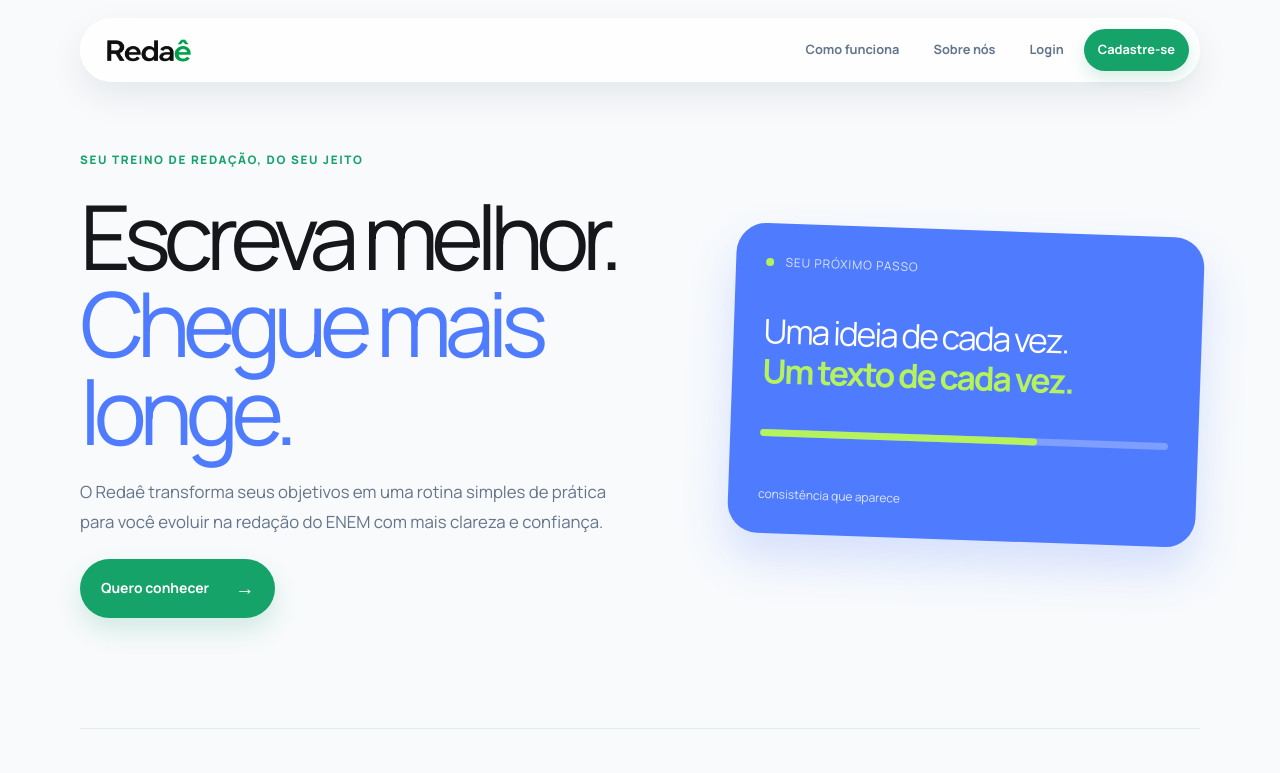
Test: landing page authentication cards › opens the login form and enters the private area after authentication
Click the button "Login" at x=1047, y=50, box [1016,29,1078,71]
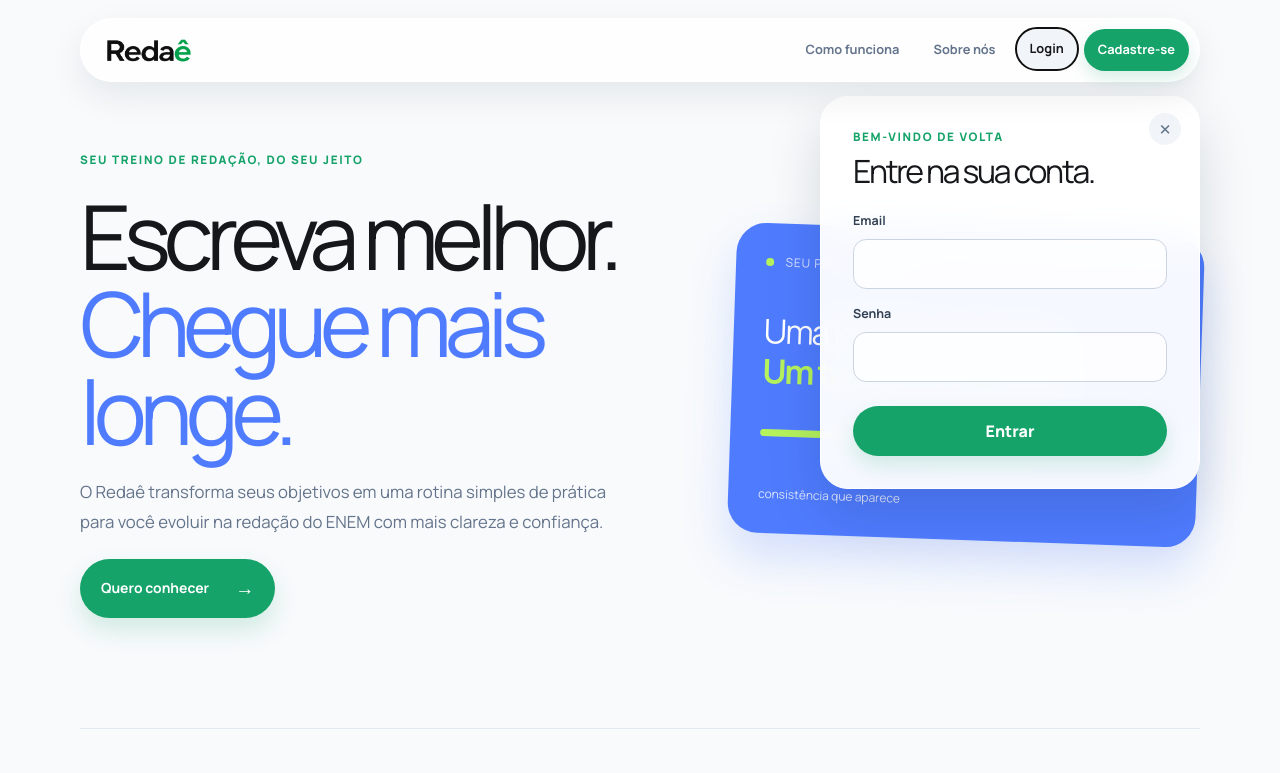
Expected: the heading "Entre na sua conta." is shown, [853,148,1094,192]
Type "student@example.com" into the field labelled "Email" at x=1010, y=264, box [853,239,1167,289]
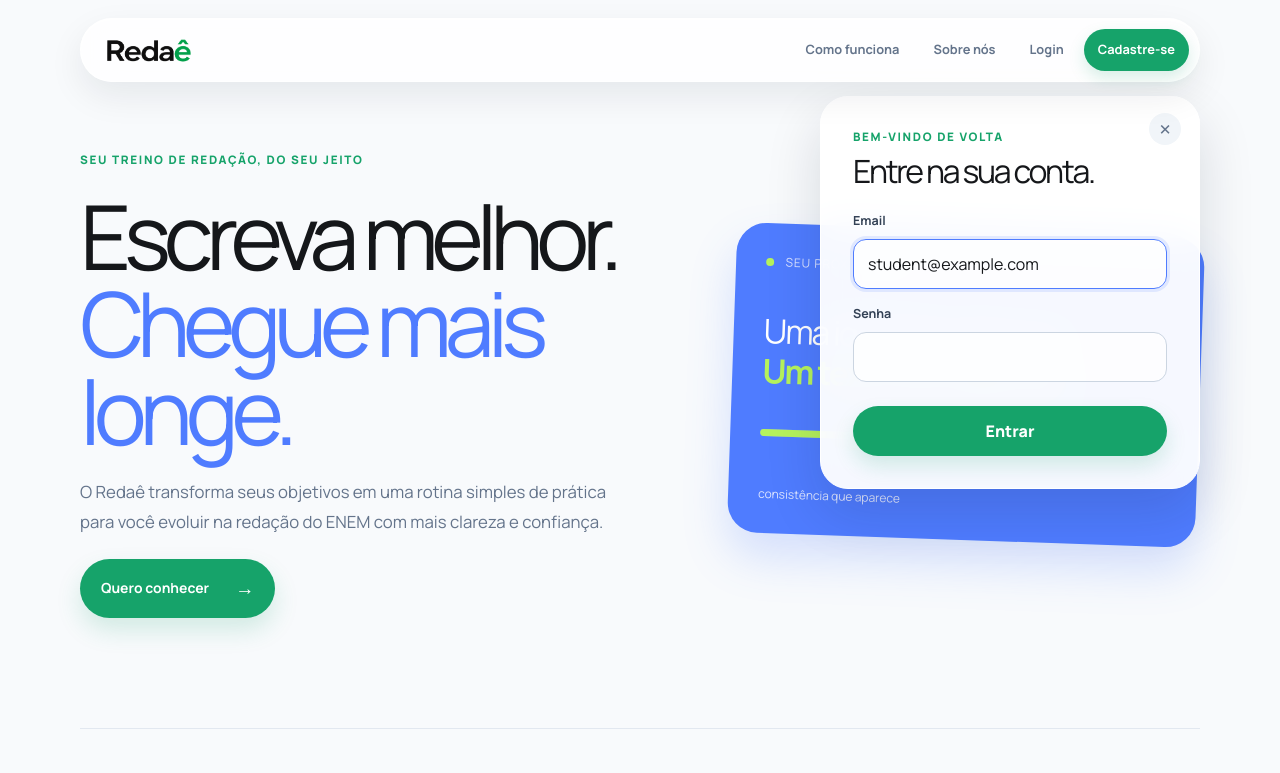
Type "password" into the password field labelled "Senha" at x=1010, y=357, box [853,332,1167,382]
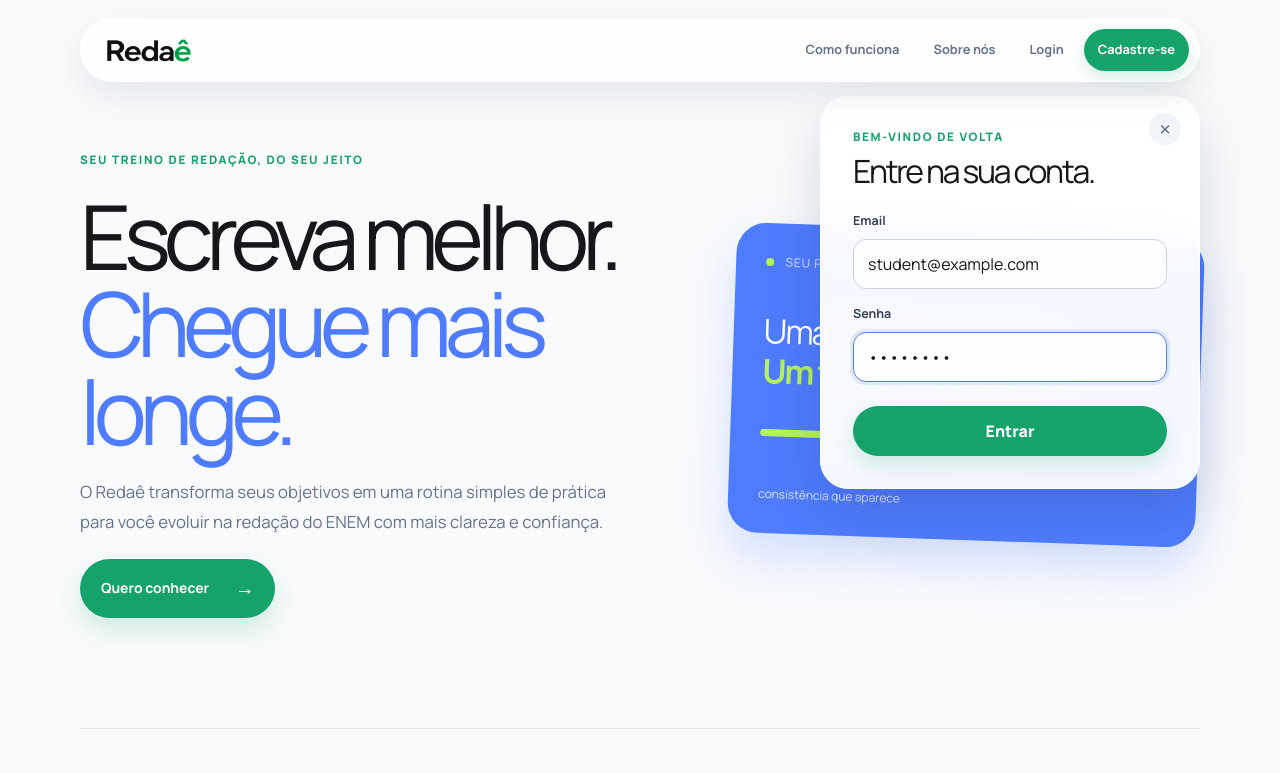
Click the button "Entrar" at x=1010, y=431, box [853,406,1167,456]
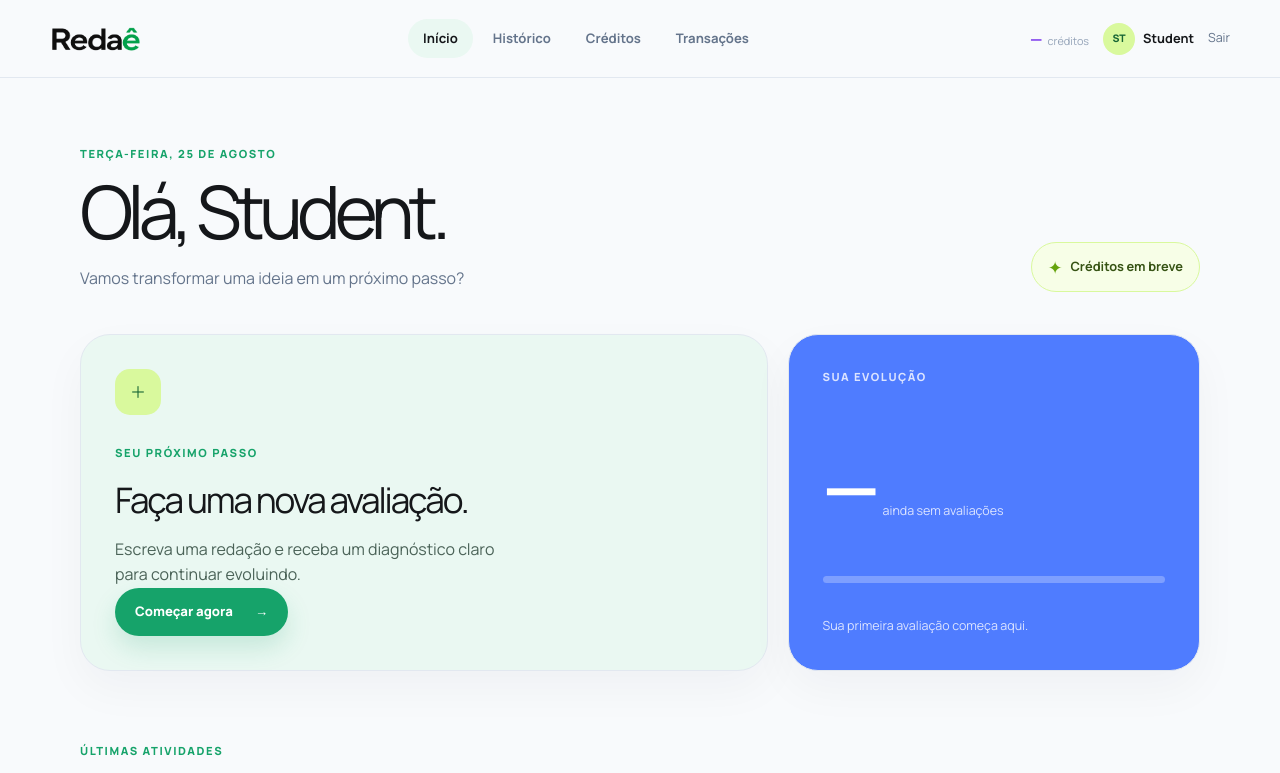
Expected: the heading "Olá, Student." is shown, [80,175,464,247]
